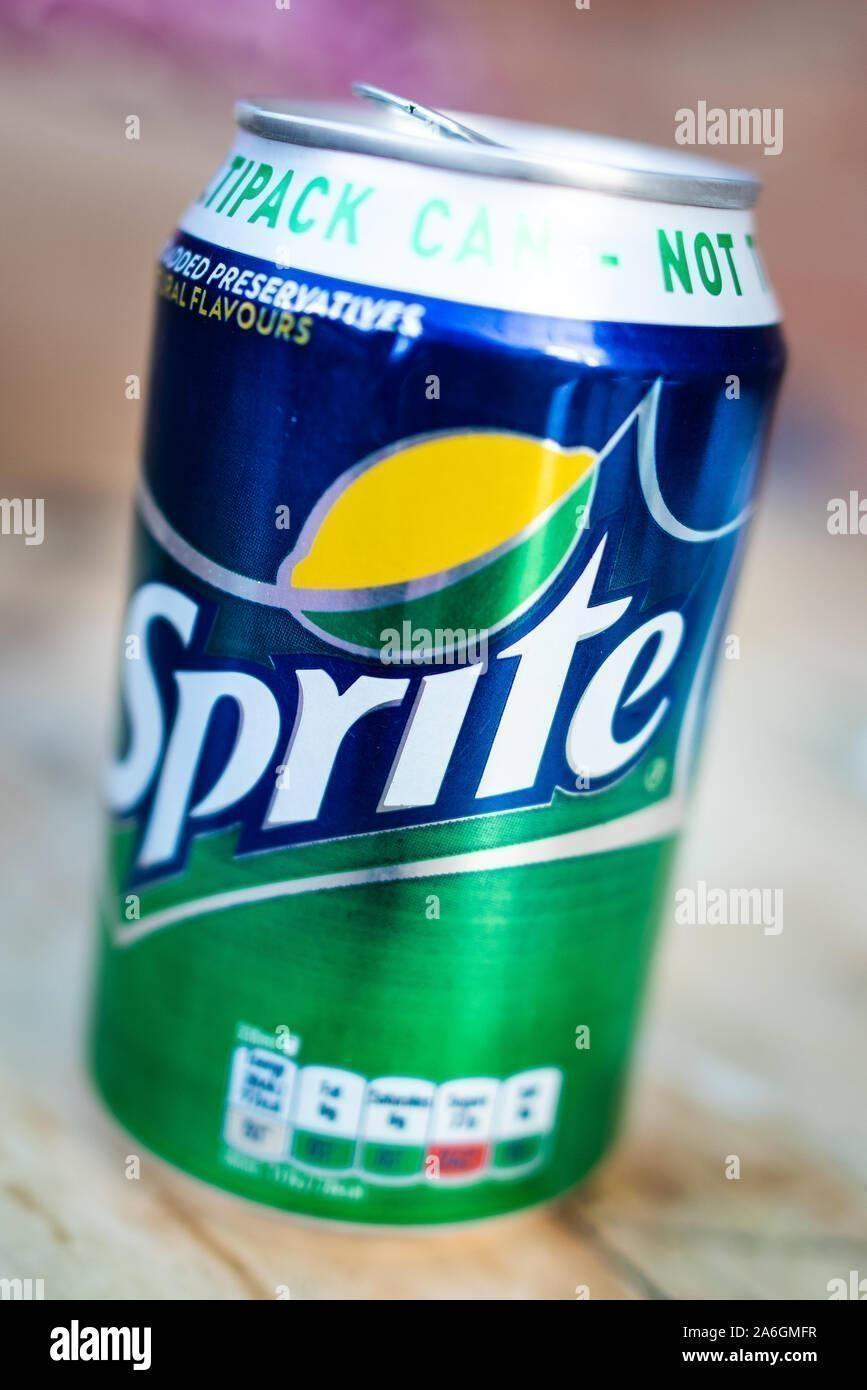tin can: (79, 80, 792, 1224)
